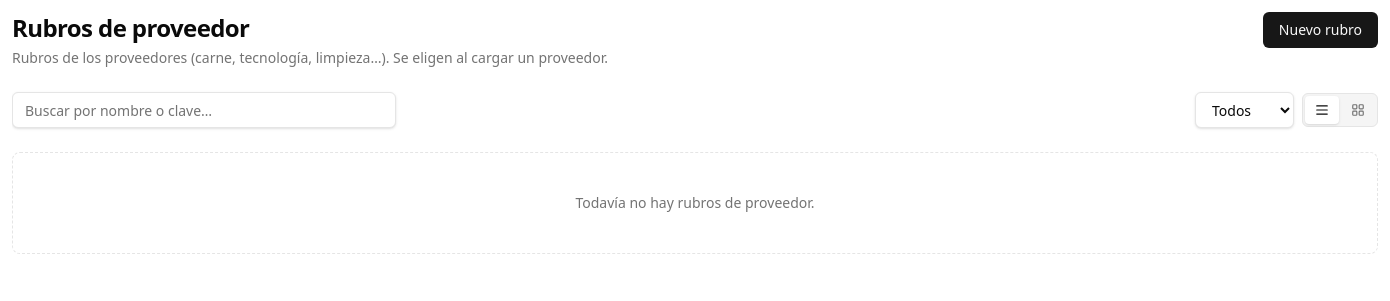
Test: SupplierCategoriesScreen › maps a duplicate name to a supplier-category message
Check: the text "Todavía no hay rubros de proveedor." is shown, box 12,152 -> 1378,254
Click the button "Nuevo rubro". click: click(1320, 30)
box: 1263,12 -> 1378,48
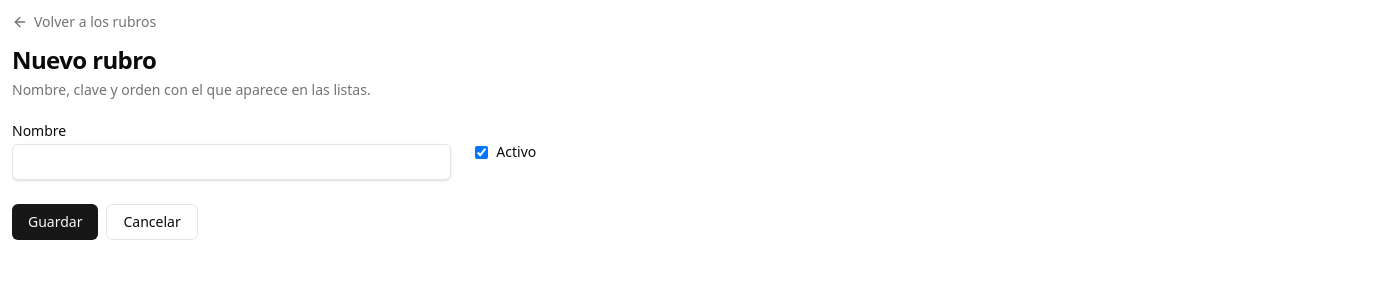
Type "Carne" into the field labelled "Nombre". click: (232, 162)
box: 12,144 -> 451,180
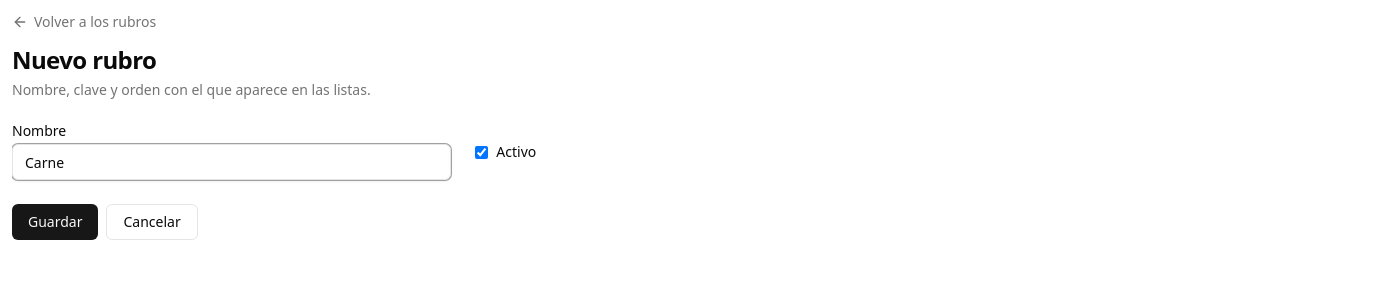
Click the button "Guardar". click: click(55, 222)
box: 12,204 -> 98,240
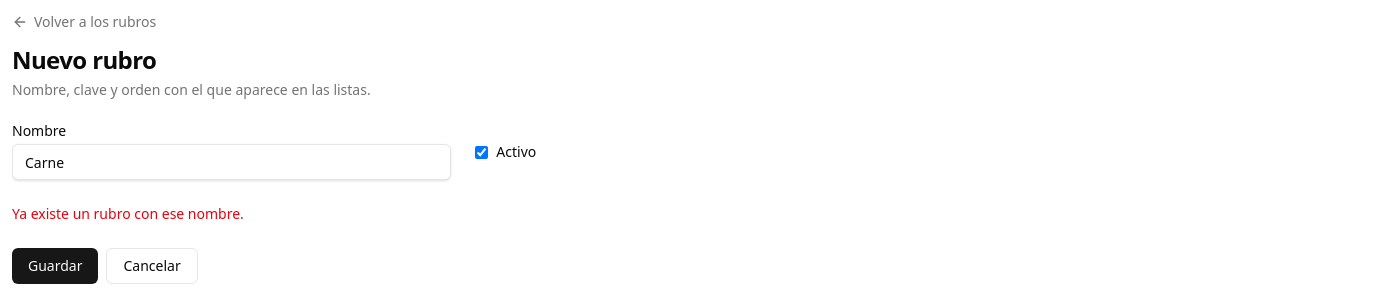
Check: the message reads "Ya existe un rubro con ese nombre.", box 12,204 -> 244,223
